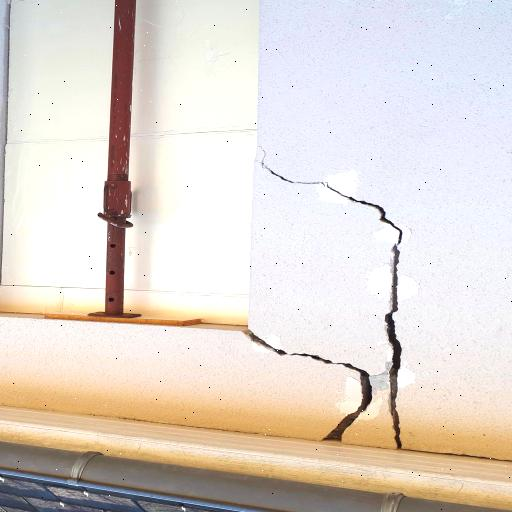spalling: (270, 162, 412, 444), (234, 325, 373, 440)
